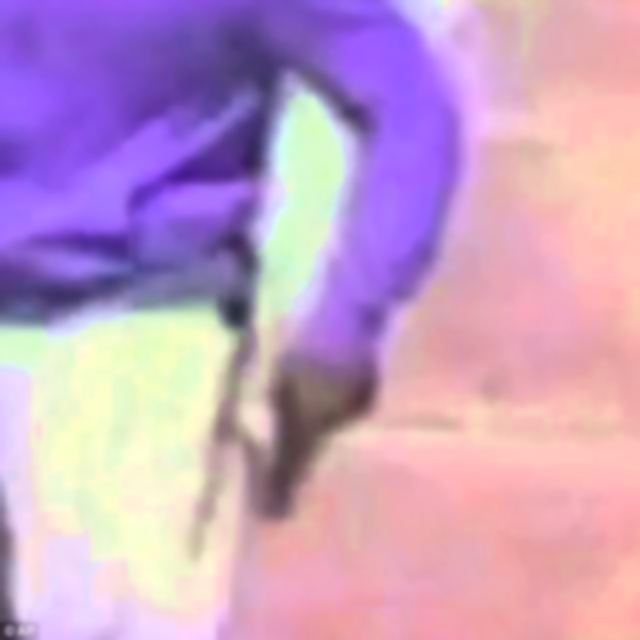gun: (221, 361, 381, 533)
